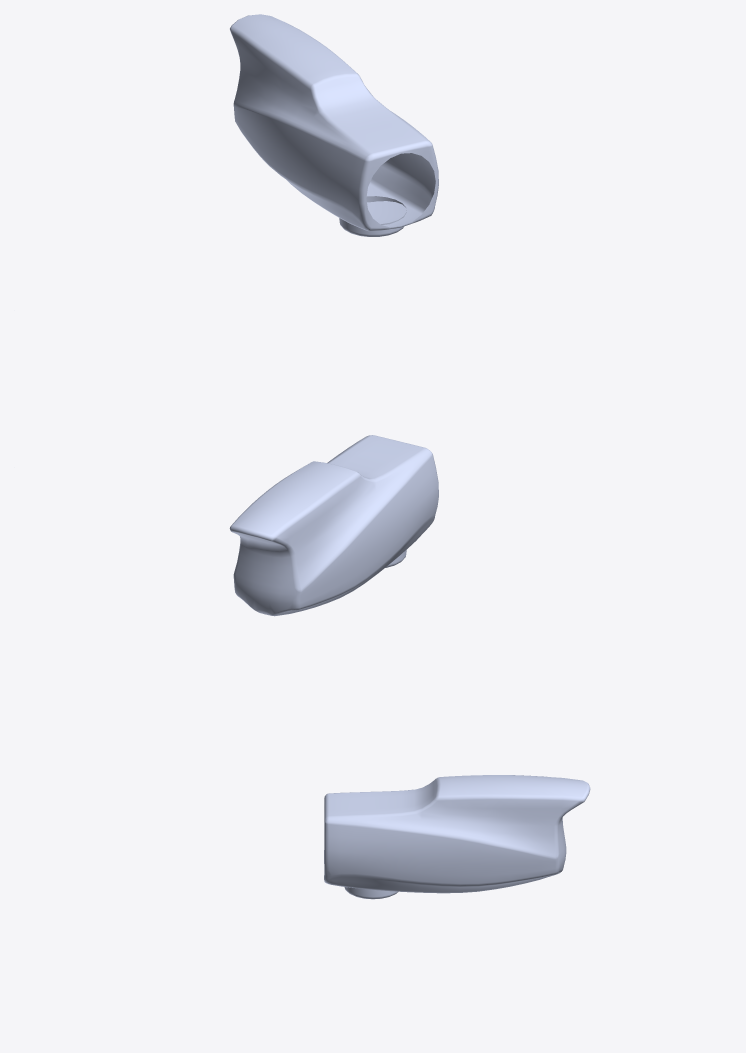
File: windpowergenerator_white_2001_02.obj
3 renders of one model, top to bottom at view 1: azimuth 30°, elevation 25°; view 2: azimuth 150°, elevation 25°; view 3: azimuth 270°, elevation 25°, orthographic. The views are drawn at different scales.
Visible parts, largest first — view 1: polySurface259; view 2: polySurface259; view 3: polySurface259.
Part boxes in pixels (x1,y1,x2,y2): polySurface259: (230, 14, 438, 236); polySurface259: (229, 435, 438, 616); polySurface259: (324, 775, 590, 899).
Bounding box in the file's own units: 4089 × 667 × 4089.
1 material, 1 textured.
